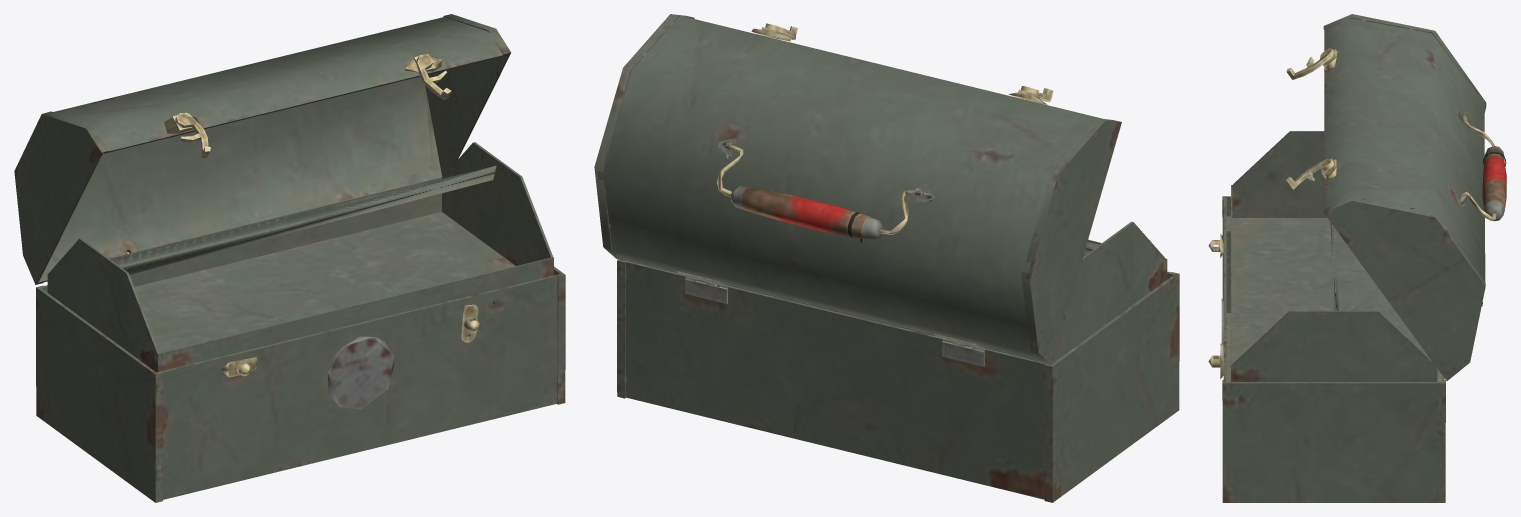
Rendered from toolbox.glb.
3 views of the same model, side by side, from view 1: azimuth 30°, elevation 25°; view 2: azimuth 150°, elevation 25°; view 3: azimuth 270°, elevation 25° (orthographic). The views are drawn at different scales.
Visible parts, largest first — view 1: metal_toolbox_lid, metal_toolbox, metal_toolbox_tray, metal_toolbox_handle_latch_r, metal_toolbox_handle_latch_l; view 2: metal_toolbox_lid, metal_toolbox, metal_toolbox_tray, metal_toolbox_handle; view 3: metal_toolbox_lid, metal_toolbox_tray, metal_toolbox, metal_toolbox_handle, metal_toolbox_handle_latch_l, metal_toolbox_handle_latch_r.
Part boxes in pixels (left/top/right/bottom): metal_toolbox_lid: left=14, top=14, right=511, bottom=284; metal_toolbox: left=36, top=266, right=565, bottom=502; metal_toolbox_tray: left=47, top=142, right=553, bottom=372; metal_toolbox_handle_latch_r: left=416, top=54, right=451, bottom=99; metal_toolbox_handle_latch_l: left=175, top=112, right=210, bottom=157; metal_toolbox_lid: left=594, top=14, right=1121, bottom=365; metal_toolbox: left=617, top=259, right=1179, bottom=502; metal_toolbox_tray: left=629, top=221, right=1167, bottom=363; metal_toolbox_handle: left=716, top=145, right=915, bottom=242; metal_toolbox_lid: left=1321, top=14, right=1486, bottom=380; metal_toolbox_tray: left=1231, top=131, right=1437, bottom=381; metal_toolbox: left=1208, top=196, right=1445, bottom=502; metal_toolbox_handle: left=1462, top=114, right=1506, bottom=221; metal_toolbox_handle_latch_l: left=1286, top=48, right=1334, bottom=79; metal_toolbox_handle_latch_r: left=1286, top=158, right=1333, bottom=189.
Bounding box in the file's own units: 0.4 × 0.3047 × 0.2698.
1 material, 1 textured.
